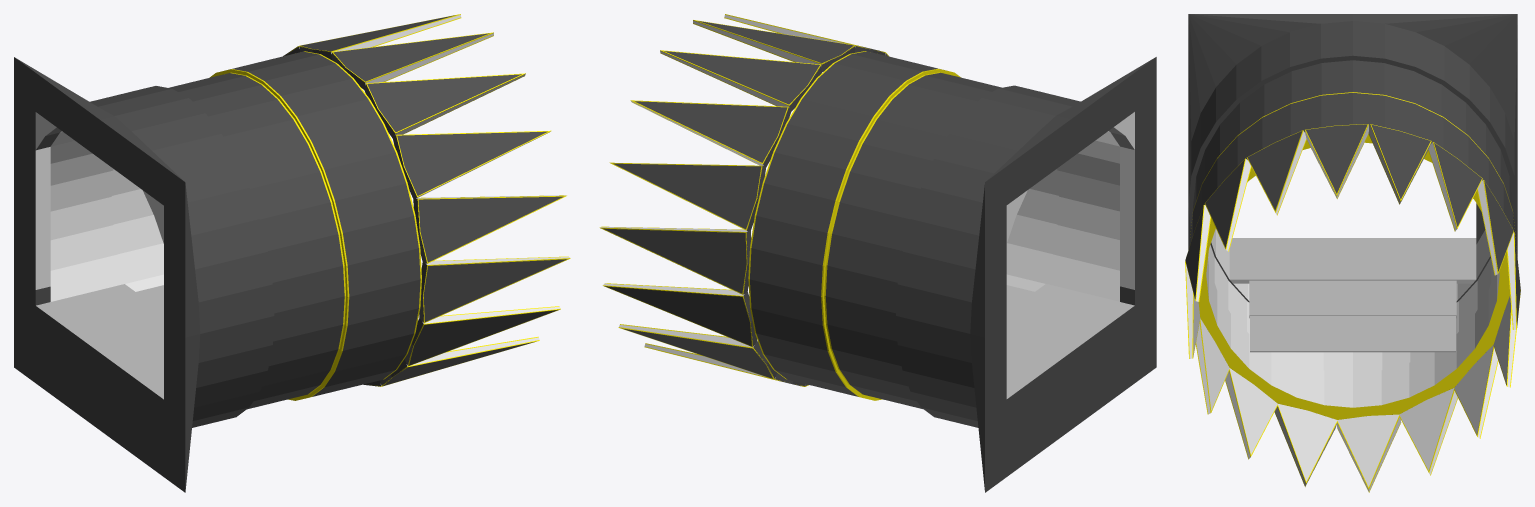
The model's file is Doors.fbx.
The picture shows the model from 3 angles, left to right: view 1: azimuth 30°, elevation 25°; view 2: azimuth 150°, elevation 25°; view 3: azimuth 270°, elevation 25°; orthographic projection. The views are drawn at different scales.
Parts seen in each view (by area): view 1: Docking Ring P1, Inner, Outer, Circle.029, Circle.030, Circle.031, Circle.028, Circle.032, Circle.027, Circle.017, Circle.026; view 2: Docking Ring P1, Inner, Outer, Circle.019, Circle.018, Circle.020, Circle.017, Circle.021, Circle.032, Circle.022, Circle.031, Circle.023; view 3: Docking Ring P1, Outer, Inner, Floor 1, Floor 2, Circle.024, Circle.025, Circle.032, Circle.017, Circle.023, Circle.031, Circle.026 (+10 smaller).
Boxes of the visible parts, left/top/right/bottom form: Docking Ring P1: left=14, top=57, right=274, bottom=492; Inner: left=111, top=72, right=345, bottom=409; Outer: left=209, top=51, right=421, bottom=400; Circle.029: left=413, top=195, right=566, bottom=263; Circle.030: left=392, top=130, right=551, bottom=198; Circle.031: left=364, top=73, right=525, bottom=138; Circle.028: left=419, top=256, right=570, bottom=323; Circle.032: left=331, top=32, right=493, bottom=89; Circle.027: left=404, top=306, right=560, bottom=366; Circle.017: left=299, top=14, right=461, bottom=59; Circle.026: left=380, top=336, right=539, bottom=386; Docking Ring P1: left=896, top=57, right=1156, bottom=492; Inner: left=824, top=72, right=1058, bottom=409; Outer: left=748, top=51, right=960, bottom=400; Circle.019: left=609, top=162, right=765, bottom=230; Circle.018: left=630, top=100, right=790, bottom=167; Circle.020: left=599, top=226, right=751, bottom=294; Circle.017: left=660, top=50, right=822, bottom=111; Circle.021: left=603, top=283, right=756, bottom=346; Circle.032: left=693, top=20, right=855, bottom=71; Circle.022: left=618, top=324, right=776, bottom=379; Circle.031: left=724, top=14, right=885, bottom=55; Circle.023: left=644, top=343, right=804, bottom=386; Docking Ring P1: left=1188, top=14, right=1517, bottom=302; Outer: left=1190, top=92, right=1515, bottom=419; Inner: left=1193, top=60, right=1512, bottom=372; Floor 1: left=1249, top=280, right=1456, bottom=318; Floor 2: left=1250, top=316, right=1455, bottom=352; Circle.024: left=1337, top=414, right=1401, bottom=492; Circle.025: left=1274, top=403, right=1337, bottom=486; Circle.032: left=1305, top=124, right=1368, bottom=198; Circle.017: left=1368, top=124, right=1431, bottom=204; Circle.023: left=1399, top=388, right=1457, bottom=475; Circle.031: left=1246, top=130, right=1306, bottom=215; Circle.026: left=1225, top=368, right=1277, bottom=459.
Size of the model in its own units: 520 by 408 by 408.
